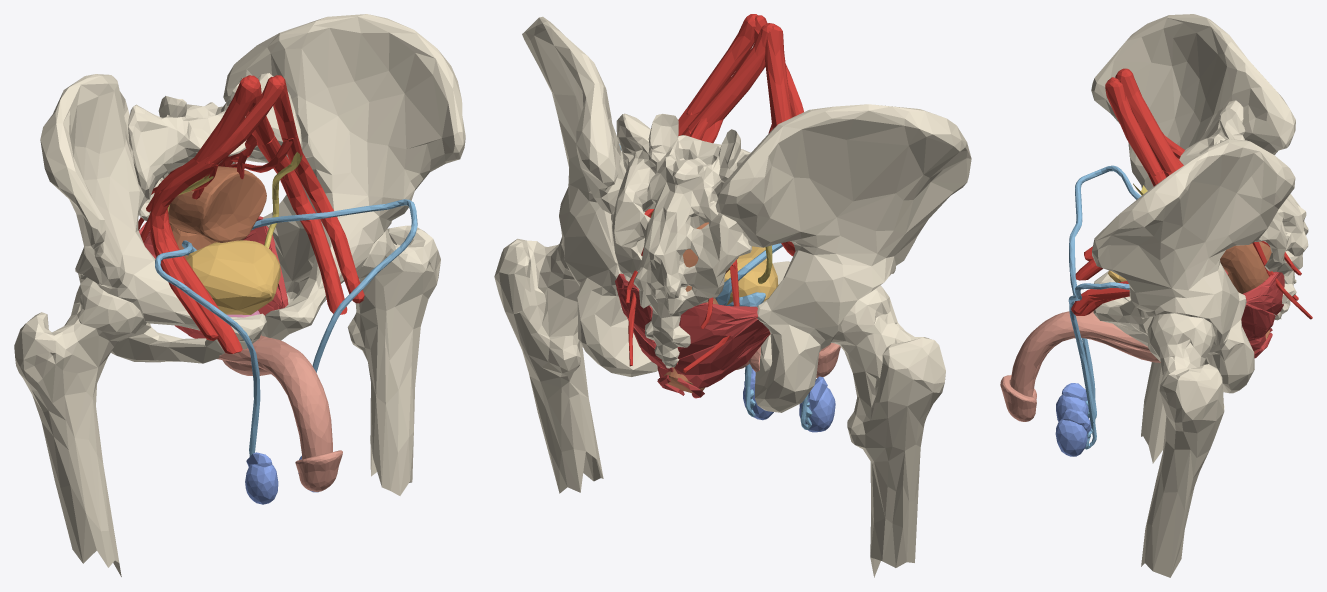
The model's file is pelvis.glb.
The picture shows the model from 3 angles, left to right: view 1: azimuth 30°, elevation 25°; view 2: azimuth 150°, elevation 25°; view 3: azimuth 270°, elevation 25°; orthographic projection. The views are drawn at different scales.
Parts seen in each view (by area): view 1: bones, vessels, penis, rectum, bladder, seminal, testis, floor, ureters; view 2: bones, vessels, floor, seminal, testis, bladder, penis, rectum; view 3: bones, vessels, penis, seminal, floor, testis, rectum.
Part boxes in pixels (box(x1,y1,x2,y2)): bones: box(14, 14, 465, 576); vessels: box(138, 75, 364, 353); penis: box(217, 334, 342, 491); rectum: box(168, 166, 266, 258); bladder: box(186, 240, 280, 314); seminal: box(155, 199, 417, 456); testis: box(245, 452, 318, 504); floor: box(139, 216, 288, 338); ureters: box(167, 152, 302, 248); bones: box(494, 16, 971, 577); vessels: box(625, 14, 803, 372); floor: box(615, 273, 770, 398); seminal: box(619, 144, 812, 429); testis: box(743, 368, 835, 432); bladder: box(724, 246, 778, 304); penis: box(736, 343, 840, 377); rectum: box(664, 222, 738, 392); bones: box(1091, 14, 1308, 577); vessels: box(1071, 68, 1312, 319); penis: box(1000, 311, 1160, 421); seminal: box(1068, 165, 1140, 449); floor: box(1225, 270, 1284, 358); testis: box(1055, 383, 1091, 456); rectum: box(1220, 241, 1273, 351).
Bounding box in the file's own units: 0.3007 × 0.3318 × 0.2109.
